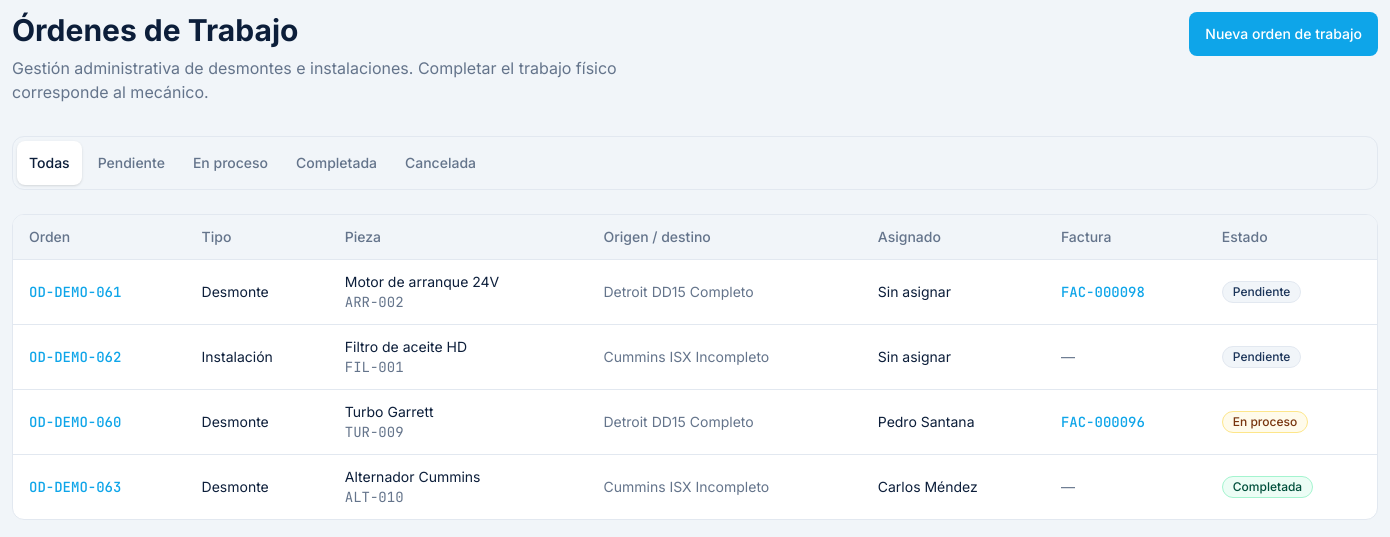
WorkOrdersPage › filters the in-progress tab to the assigned seed order
Expected: the text "OD-DEMO-060" is shown, [29, 413, 121, 431]
Click the button "En proceso". click: (230, 163)
box: [181, 141, 280, 185]
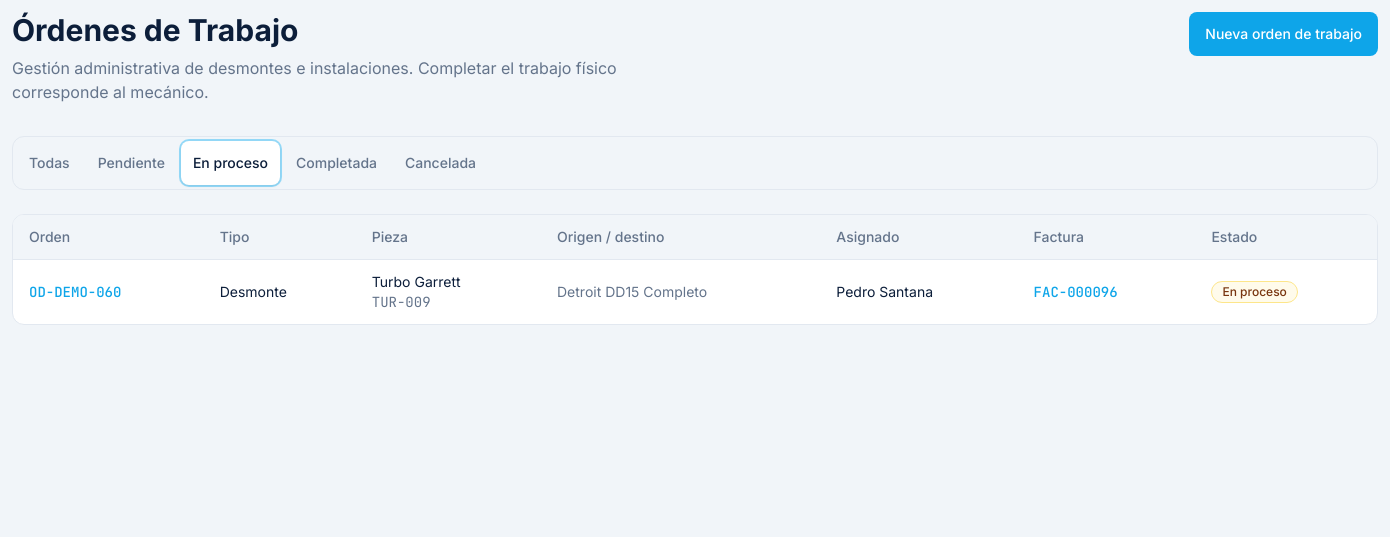
Expected: the text "OD-DEMO-060" is shown, [29, 283, 121, 301]
Expected: the link "OD-DEMO-061" is gone
Expected: the link "OD-DEMO-062" is gone
